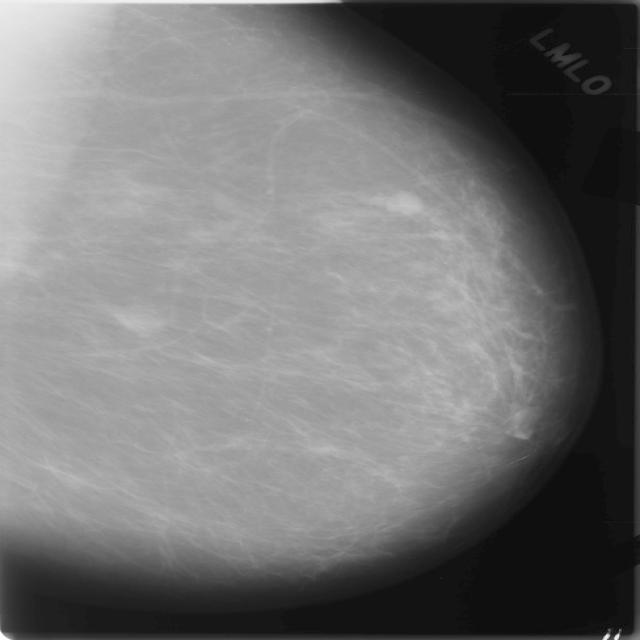tumour: (383, 189, 421, 215)
